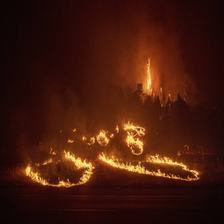fire: (98, 113, 208, 180), (16, 134, 94, 192), (131, 51, 174, 102)
